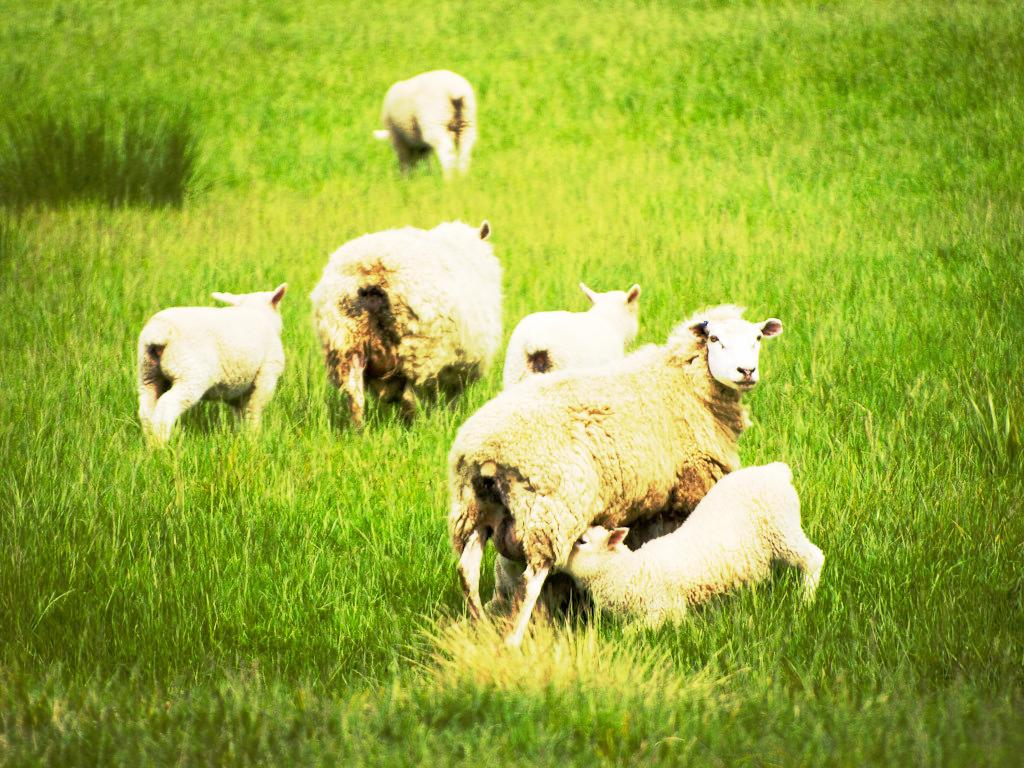Sheep: (450, 304, 781, 657), (555, 462, 823, 626), (308, 222, 505, 433), (136, 281, 288, 448), (499, 281, 641, 390), (373, 71, 479, 180)
